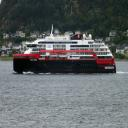cruises: (13, 25, 118, 78)
